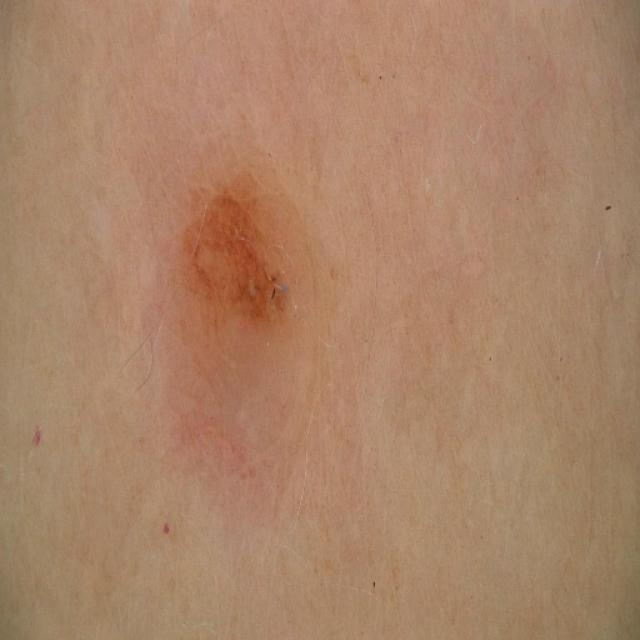Melanoma: (185, 176, 286, 318)
